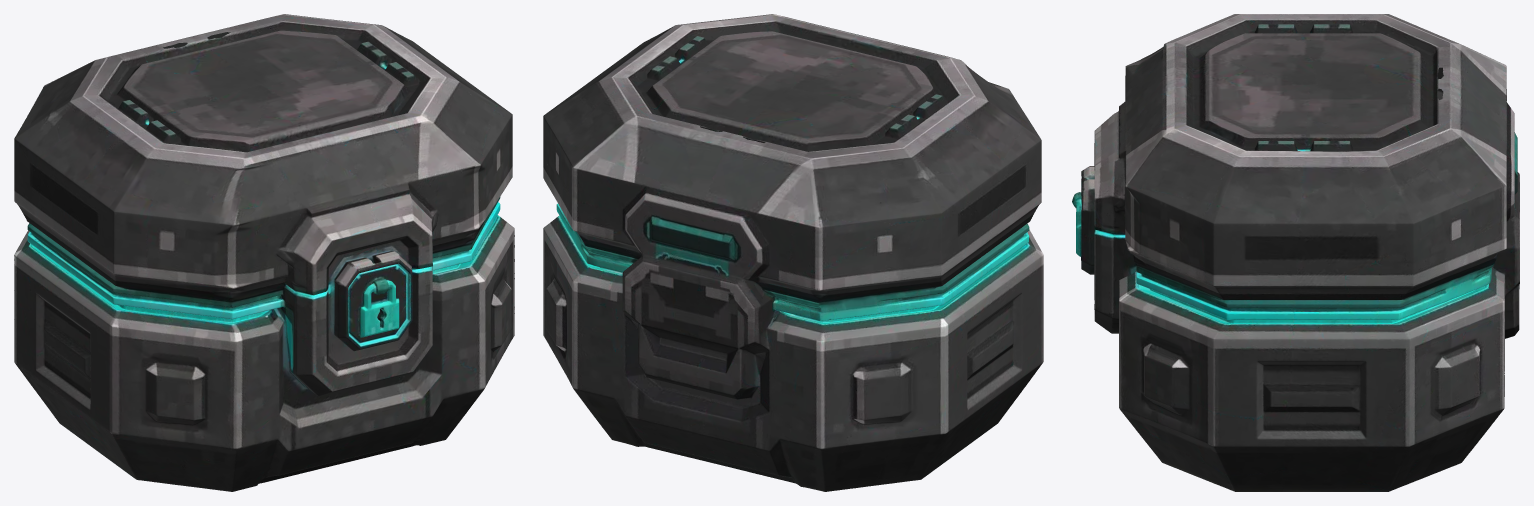
The model's file is loot_crate.glb.
3 views of the same model, side by side, from view 1: azimuth 30°, elevation 25°; view 2: azimuth 150°, elevation 25°; view 3: azimuth 270°, elevation 25° (orthographic).
Size of the model in its own units: 1.9 by 1.5 by 1.83.
Materials: 1 (1 with a texture image).
